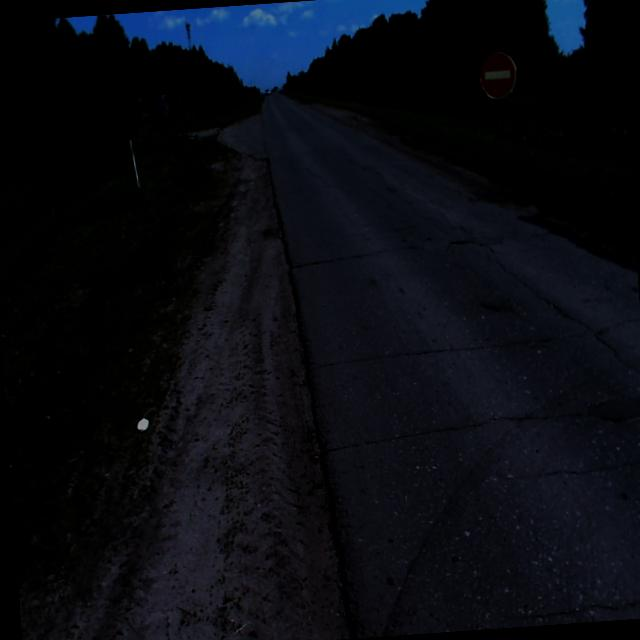road: (221, 96, 640, 637)
